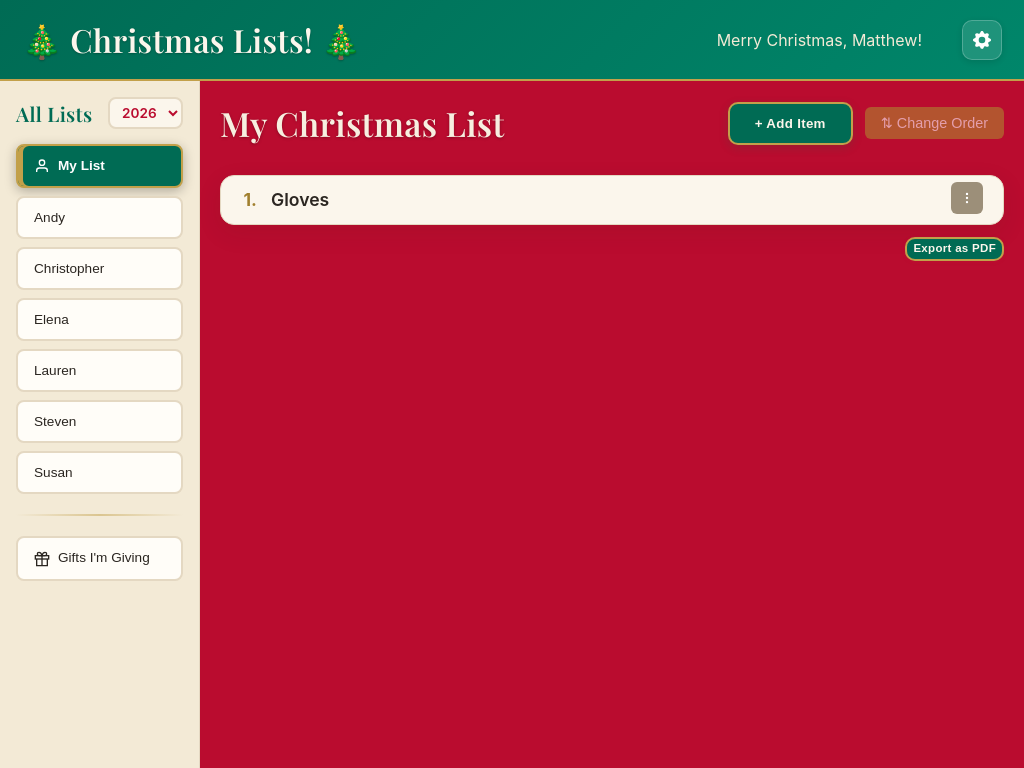
Test: an archived season is read-only › says so, and drops the add and reorder controls
Expected: the heading "Gloves" is shown, [271, 188, 329, 212]
Select "2025" in the dropdown named "Christmas year" at [146, 113], box [108, 97, 183, 129]
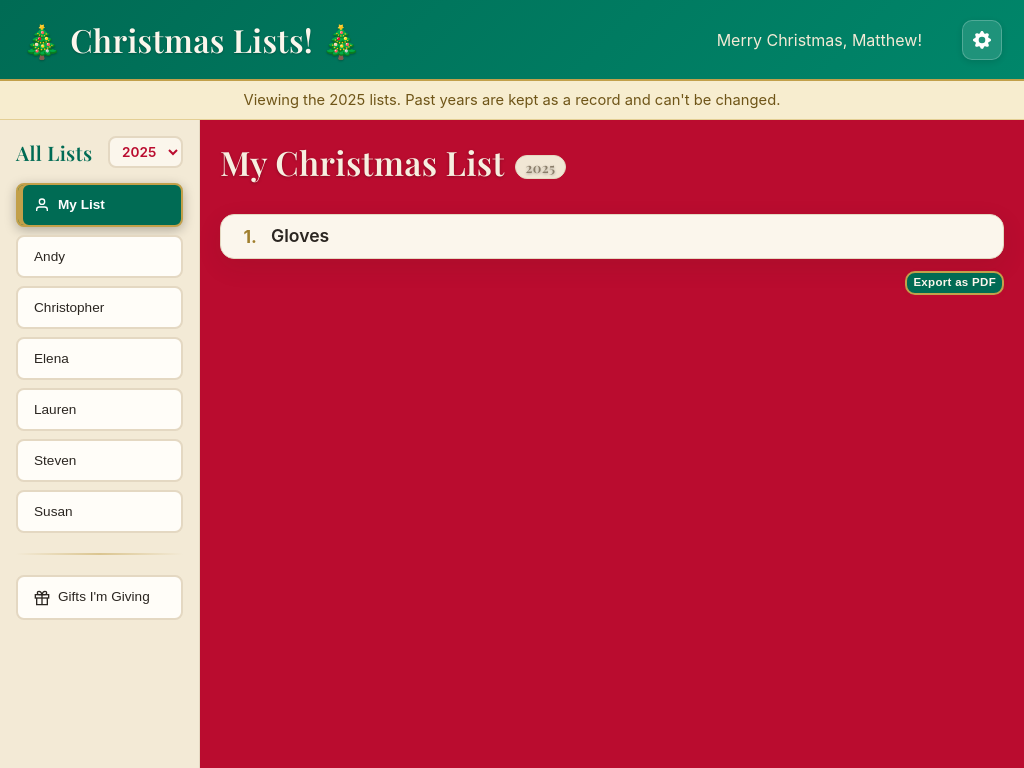
Now the text "can't be changed" is shown, box [365, 91, 780, 109]
Now the button "Add Item" is gone
Now the button "Change Order" is gone
